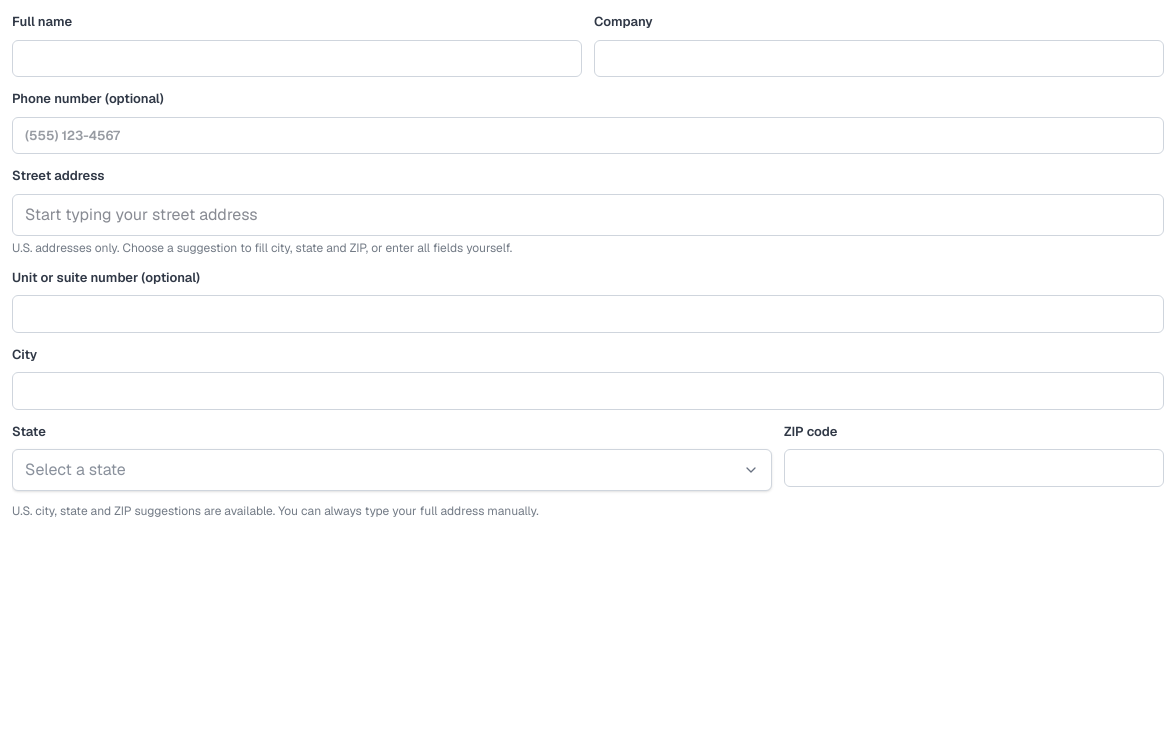
Scenario: address suggestion placement and selection › anchors a single list below City and fills city, state and ZIP by keyboard
The width and height of the screenshot is (1176, 732).
Type "New York" into the dropdown labelled "City" at coordinates (588, 391), box [12,372,1164,410]
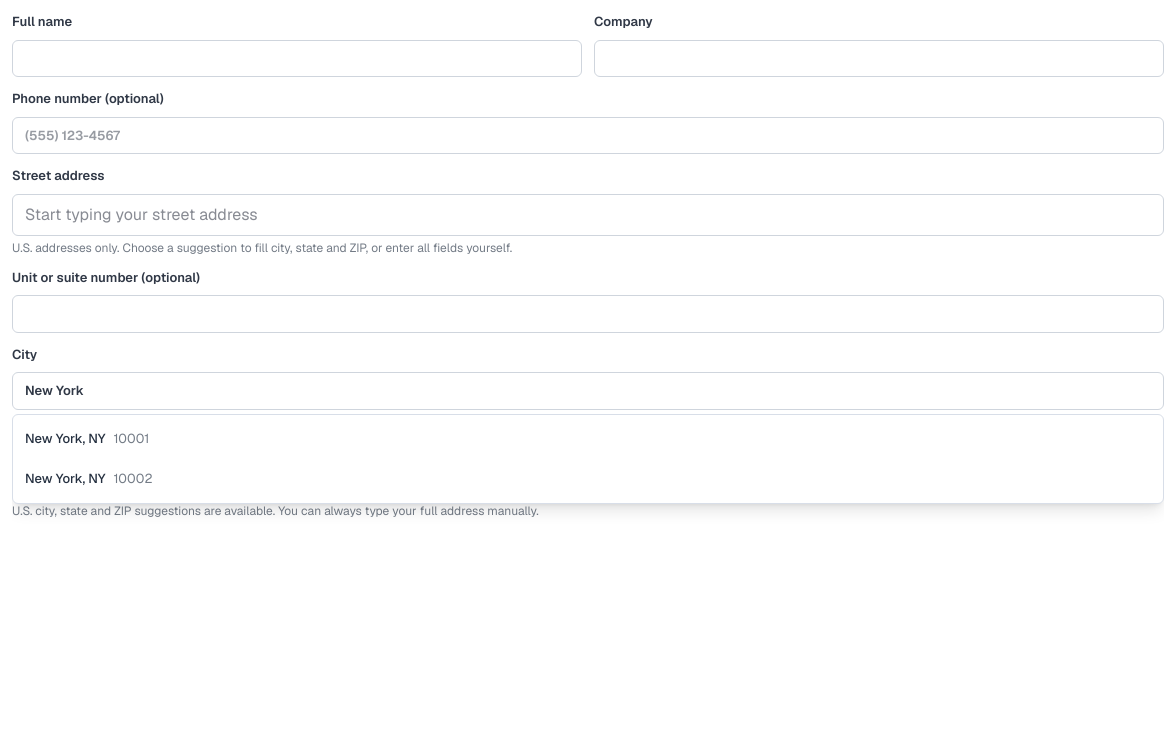
Result: the number of options is 2 at [25,430,149,446]; [25,470,152,486]
Press ArrowDown in the dropdown labelled "City", box [12,372,1164,410]
Press ArrowDown in the dropdown labelled "City", box [12,372,1164,410]
Press Enter in the dropdown labelled "City", box [12,372,1164,410]
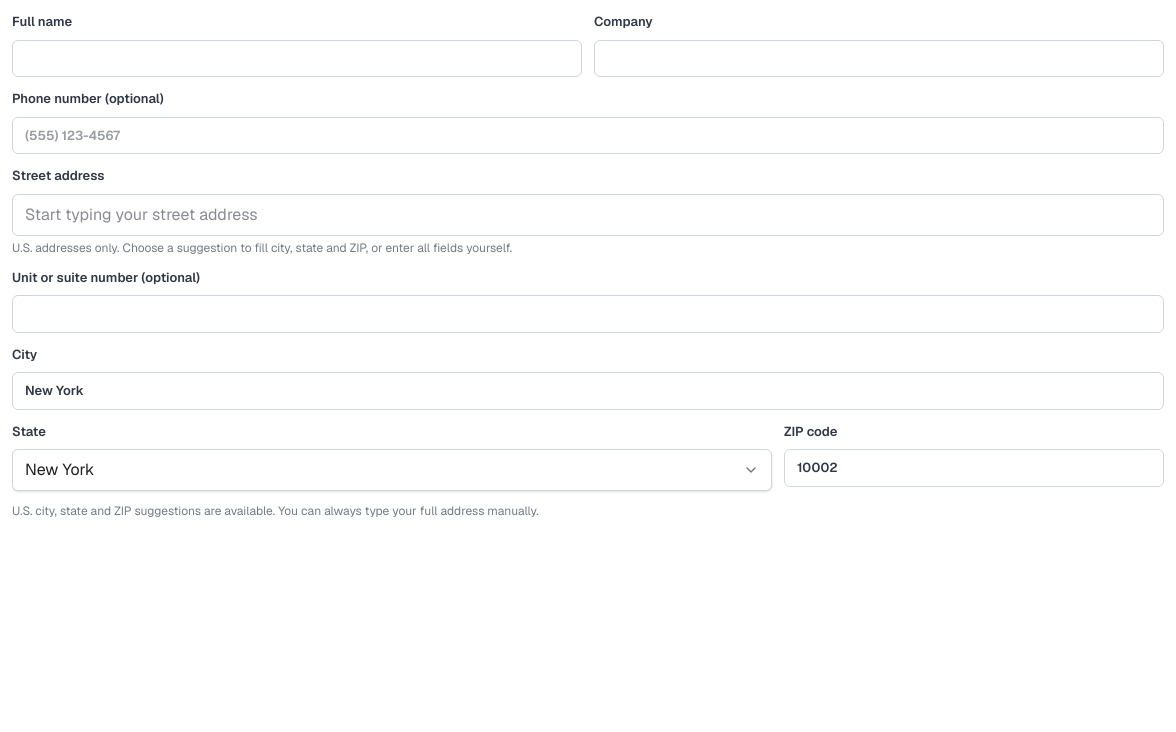
Result: the dropdown labelled "ZIP code" holds "10002" at [784,449,1164,486]
Result: the button with aria-label "State, New York" reads "New York" at [12,449,772,491]
Result: the list is gone
